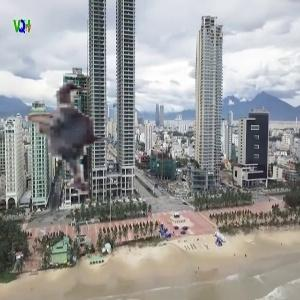drone: (4, 61, 146, 203)
